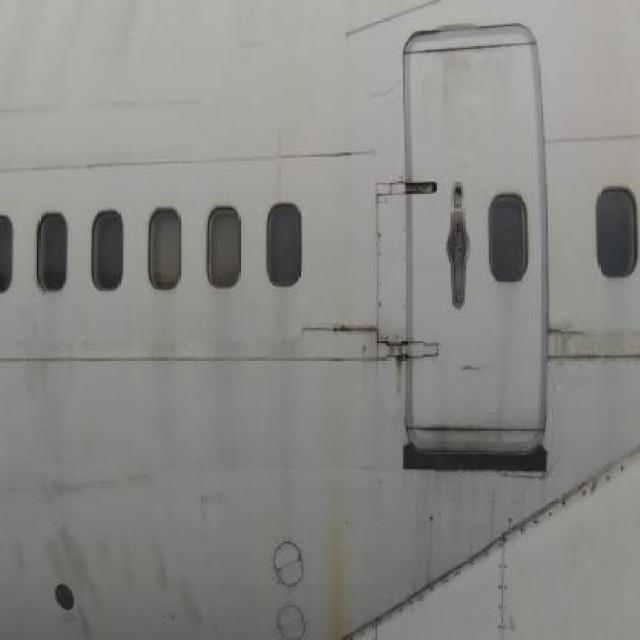Missing-Rivet: (378, 472, 632, 640), (487, 500, 518, 640)
Rust: (314, 376, 364, 638), (326, 159, 360, 330)
Scartch: (2, 515, 213, 640), (0, 456, 168, 512), (89, 84, 216, 130), (1, 84, 81, 134), (192, 464, 242, 514)
